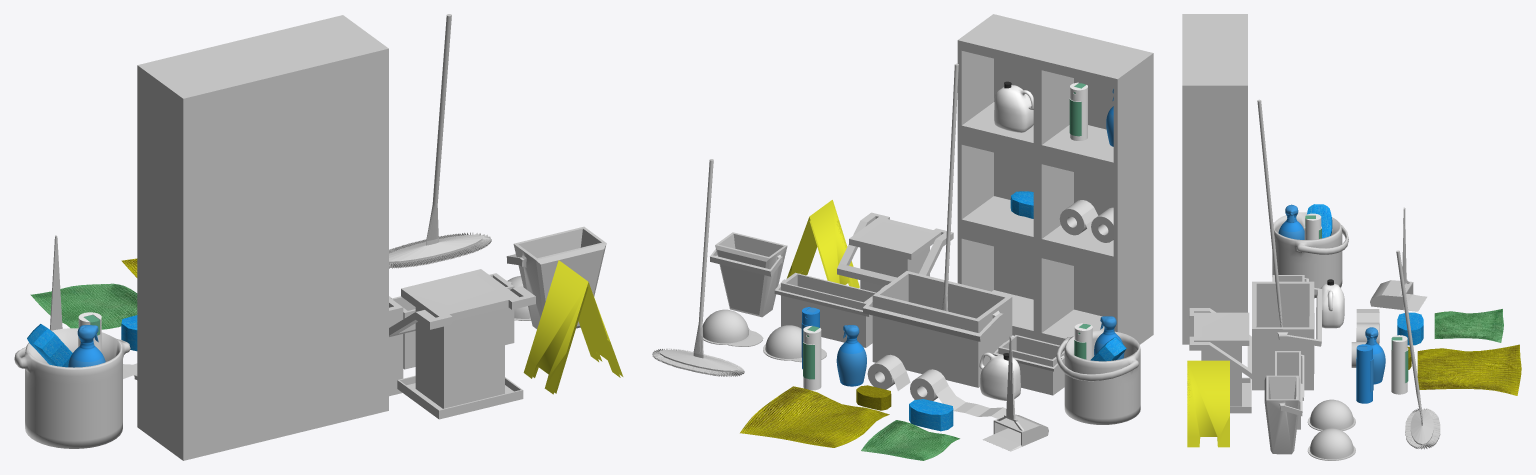
Rendered from storage room file.FBX.
3 renders of one model, left to right at view 1: azimuth 30°, elevation 25°; view 2: azimuth 150°, elevation 25°; view 3: azimuth 270°, elevation 25°, orthographic. The views are drawn at different scales.
Parts seen in each view (by area): view 1: Box009, blue bin, Cylinder004, caution sign, red bucket, yellow cloth, Cylinder001, brown bucket, Box003, Box006, Cylinder006, rubbish shavel; view 2: Box009, Box003, Cylinder004, blue bin, blue cloth, red bucket, brown bucket, caution sign, blue bucket, yellow cloth, rubbish shavel, Cylinder001 (+18 smaller); view 3: Box009, Box003, blue cloth, blue bin, caution sign, Cylinder004, red bucket, yellow cloth, rubbish shavel, Cylinder001, black hat, yellow hat (+11 smaller).
Part boxes in pixels (x1,y1,x2,y2): Box009: (137,15,388,460); blue bin: (389,269,535,419); Cylinder004: (14,328,130,448); caution sign: (523,260,623,394); red bucket: (506,226,606,328); yellow cloth: (30,283,137,329); Cylinder001: (389,14,482,267); brown bucket: (391,273,514,369); Box003: (389,296,403,396); Box006: (27,324,72,367); Cylinder006: (68,325,105,367); rubbish shavel: (50,235,62,330); Box009: (957,14,1153,345); Box003: (862,271,1012,387); Cylinder004: (1056,330,1140,424); blue bin: (837,212,953,292); blue cloth: (740,386,889,447); red bucket: (710,232,787,317); brown bucket: (774,272,875,347); caution sign: (786,200,859,288); blue bucket: (993,335,1064,395); yellow cloth: (861,420,959,460); rubbish shavel: (982,336,1048,451); Cylinder001: (659,159,737,375); Box009: (1182,14,1247,344); Box003: (1252,281,1322,390); blue cloth: (1417,344,1521,395); blue bin: (1189,308,1251,413); caution sign: (1187,360,1229,447); Cylinder004: (1272,212,1348,298); red bucket: (1264,375,1302,454); yellow cloth: (1434,309,1503,342); rubbish shavel: (1370,207,1426,311); Cylinder001: (1396,250,1433,448); black hat: (1307,428,1355,460); yellow hat: (1307,399,1355,430).
Size of the model in its own units: 338 by 228 by 249.
12 materials, 5 textured.
